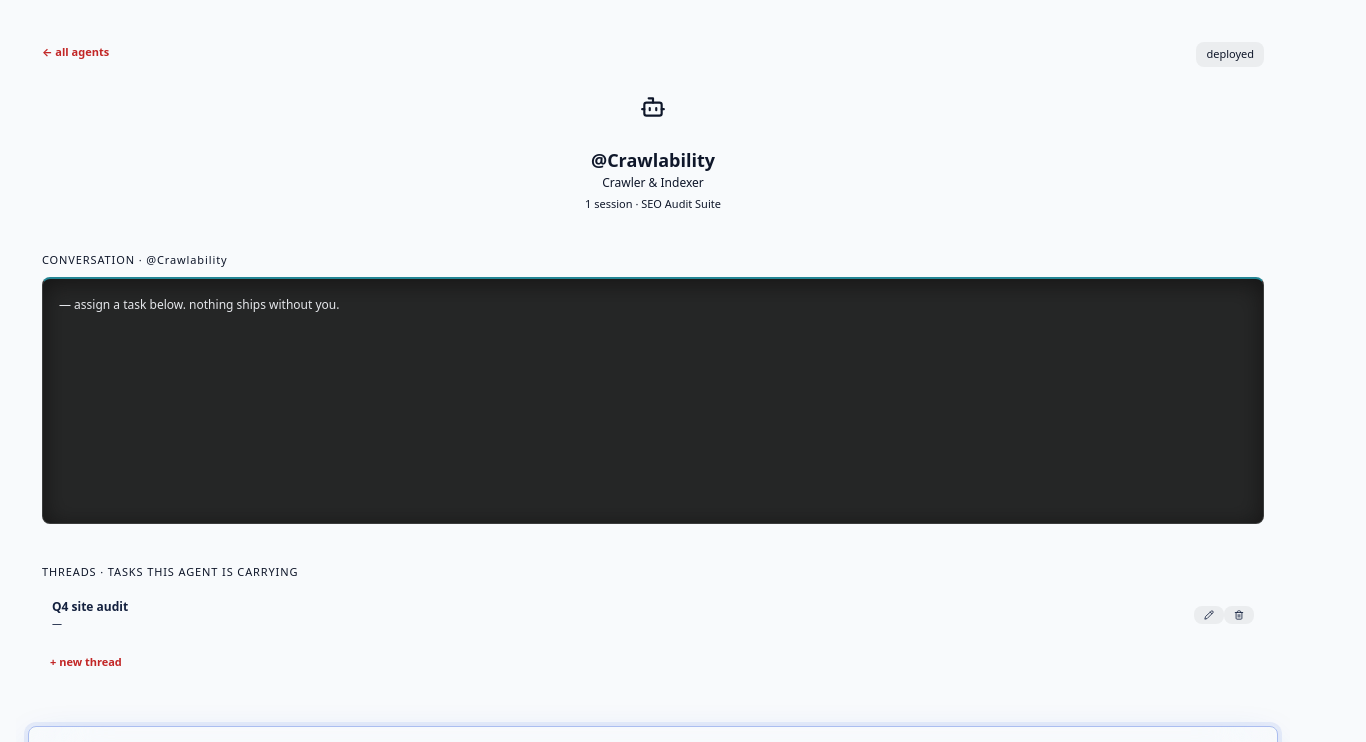
Test: AgentsWindow · execution (v13 exact DOM) › switching to a busy thread joins its live stream (token-level resume)
The width and height of the screenshot is (1366, 742).
What coordinates should you click on to do the following:
click the text "Q4 site audit"
I would click on:
 (90, 606)
Its box is x1=52 y1=598 x2=128 y2=614.
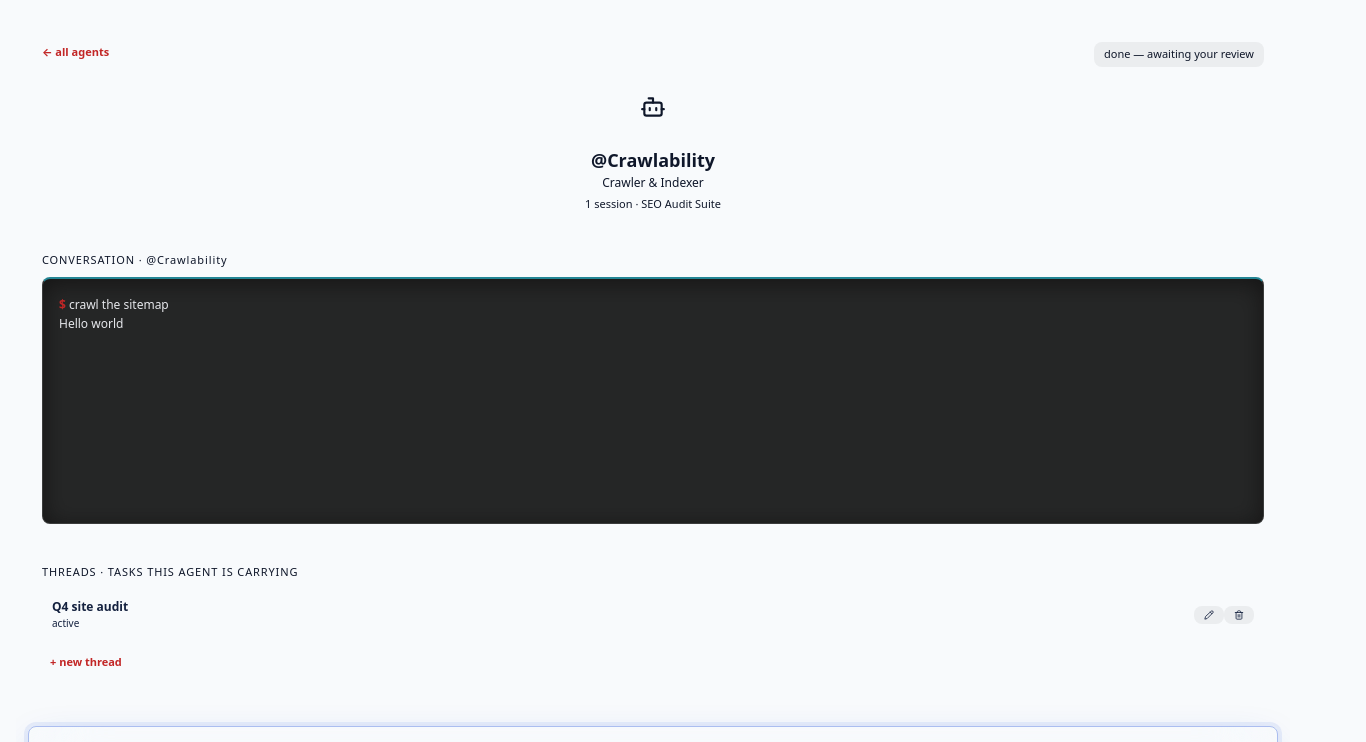
Check: the text "Hello world" is shown, box x1=59 y1=315 x2=123 y2=332
